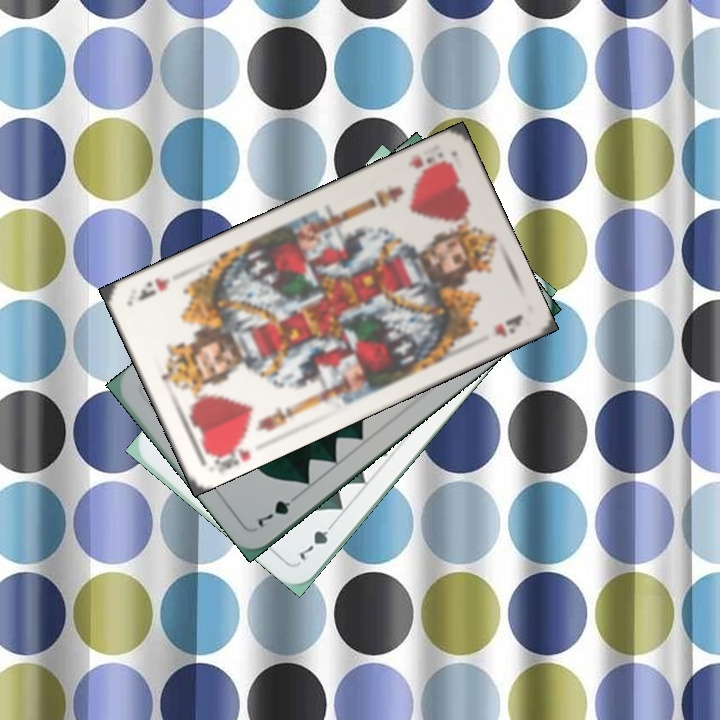G7: (293, 516, 339, 564), (253, 489, 303, 531)
HK: (204, 433, 253, 475), (404, 147, 452, 181)
